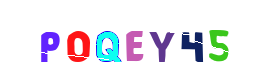4: (140, 0, 220, 80)
5: (178, 0, 258, 80)
E: (91, 0, 171, 80)
O: (38, 0, 118, 80)
P: (20, 0, 100, 80)
Q: (68, 0, 148, 80)
Y: (98, 0, 178, 80)
